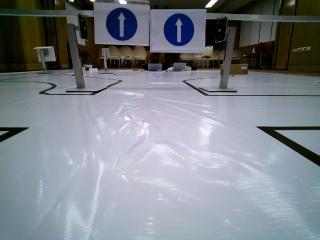straight: (149, 11, 205, 55), (95, 0, 150, 44)
